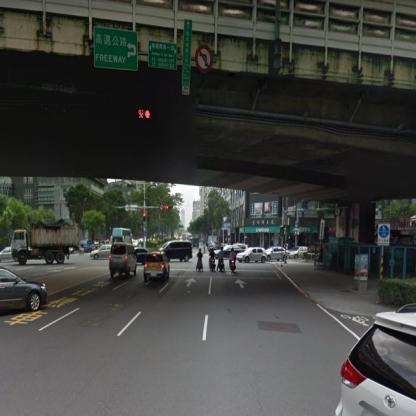Red Light: (136, 107, 158, 121), (159, 204, 175, 212)
